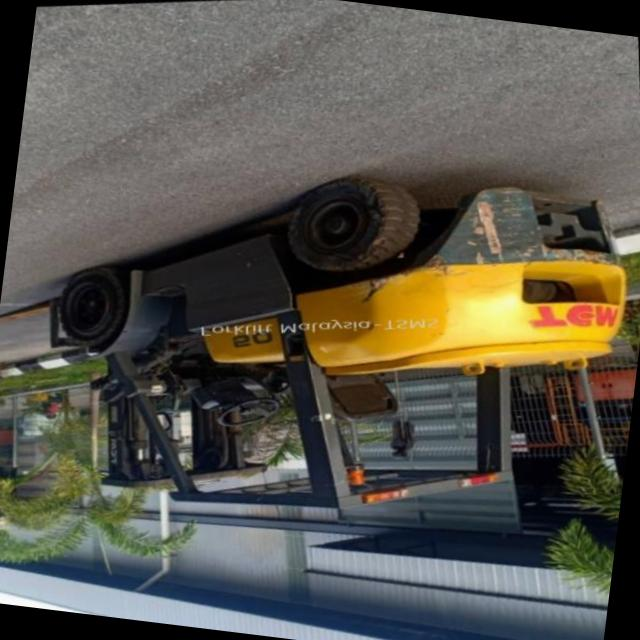forklift: (7, 83, 640, 584)
